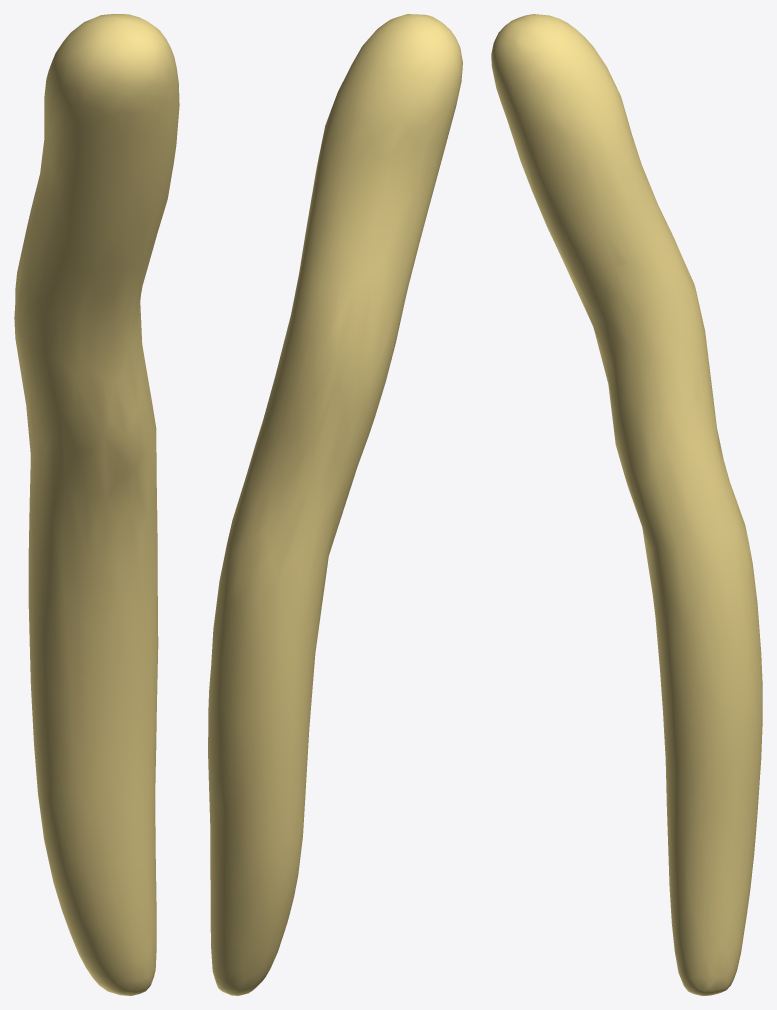
The model's file is fma83965-r_mm3523m.glb.
3 renders of one model, left to right at view 1: azimuth 30°, elevation 25°; view 2: azimuth 150°, elevation 25°; view 3: azimuth 270°, elevation 25°, orthographic. The views are drawn at different scales.
Parts seen in each view (by area): view 1: FMA83965-R_MM3523M; view 2: FMA83965-R_MM3523M; view 3: FMA83965-R_MM3523M.
Boxes of the visible parts, x1,y1,x2,y2 form: FMA83965-R_MM3523M: (14, 14, 179, 995); FMA83965-R_MM3523M: (208, 14, 462, 995); FMA83965-R_MM3523M: (491, 14, 762, 995).
Size of the model in its own units: 0.0027 by 0.015 by 0.00397.
